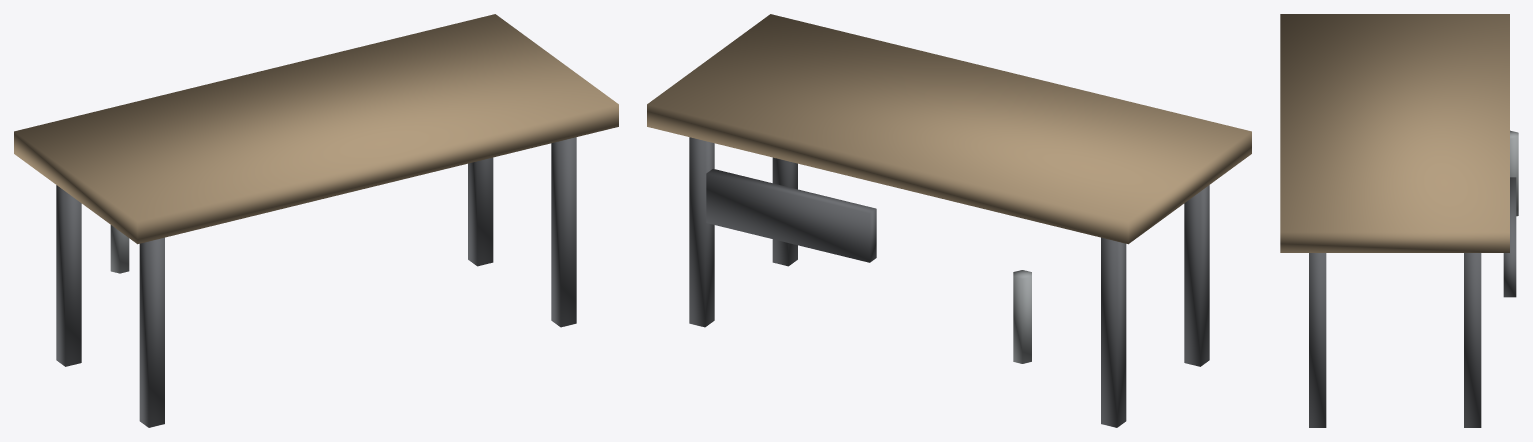
File: library_reading_table__service.glb
3 renders of one model, left to right at view 1: azimuth 30°, elevation 25°; view 2: azimuth 150°, elevation 25°; view 3: azimuth 270°, elevation 25°, orthographic. The views are drawn at different scales.
Visible parts, largest first — view 1: world; view 2: world; view 3: world.
Boxes of the visible parts, x1,y1,x2,y2 form: world: [14, 14, 618, 427]; world: [647, 14, 1251, 427]; world: [1280, 14, 1518, 427].
Bounding box in the file's own units: 1.8 × 0.8 × 0.8303.
